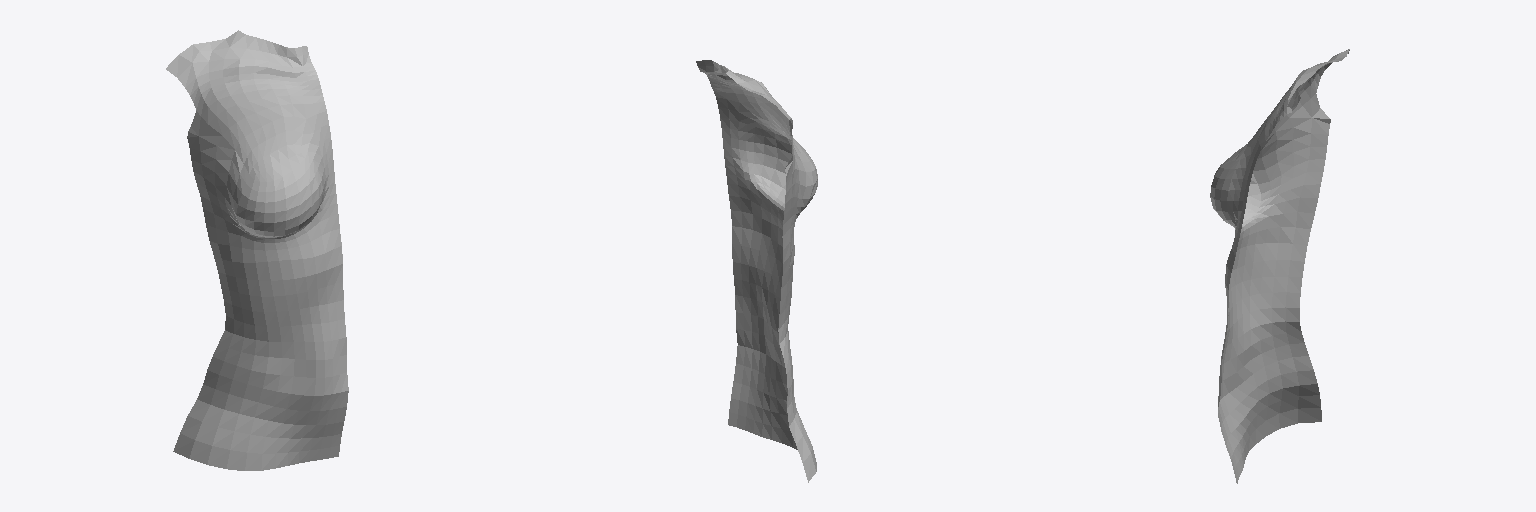
File: Template1030R.obj
3 views of the same model, side by side, from view 1: azimuth 30°, elevation 25°; view 2: azimuth 150°, elevation 25°; view 3: azimuth 270°, elevation 25° (orthographic).
Parts seen in each view (by area): view 1: Femal_Base_Mesh.001; view 2: Femal_Base_Mesh.001; view 3: Femal_Base_Mesh.001.
Boxes of the visible parts, x1=… form: Femal_Base_Mesh.001: x1=166, y1=30, x2=348, y2=470; Femal_Base_Mesh.001: x1=696, y1=60, x2=817, y2=482; Femal_Base_Mesh.001: x1=1210, y1=49, x2=1349, y2=483.
Size of the model in its own units: 0.1576 by 0.4917 by 0.1547.